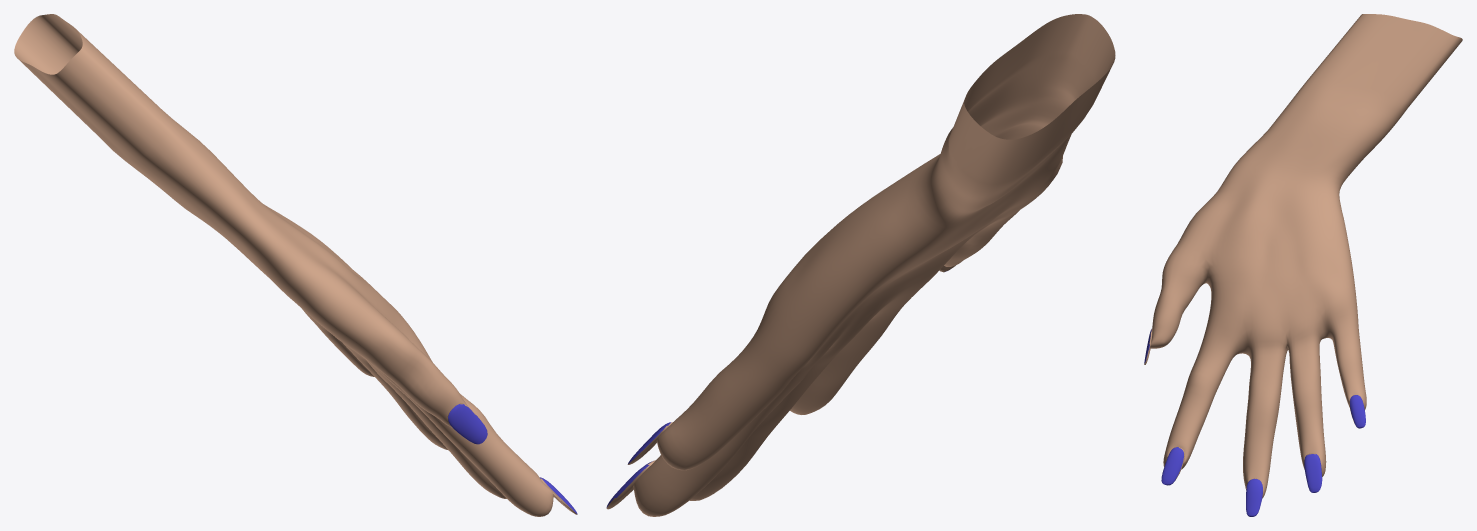
The model's file is hand.glb.
3 views of the same model, side by side, from view 1: azimuth 30°, elevation 25°; view 2: azimuth 150°, elevation 25°; view 3: azimuth 270°, elevation 25° (orthographic). The views are drawn at different scales.
Visible parts, largest first — view 1: Hands, Nails; view 2: Hands; view 3: Hands, Nails.
Part boxes in pixels (<box>): Hands: <box>14,14,577,516</box>; Nails: <box>448,404,577,513</box>; Hands: <box>606,14,1115,516</box>; Hands: <box>1144,14,1462,498</box>; Nails: <box>1144,329,1365,516</box>.
Bounding box in the file's own units: 5.51 × 6.38 × 5.01.
